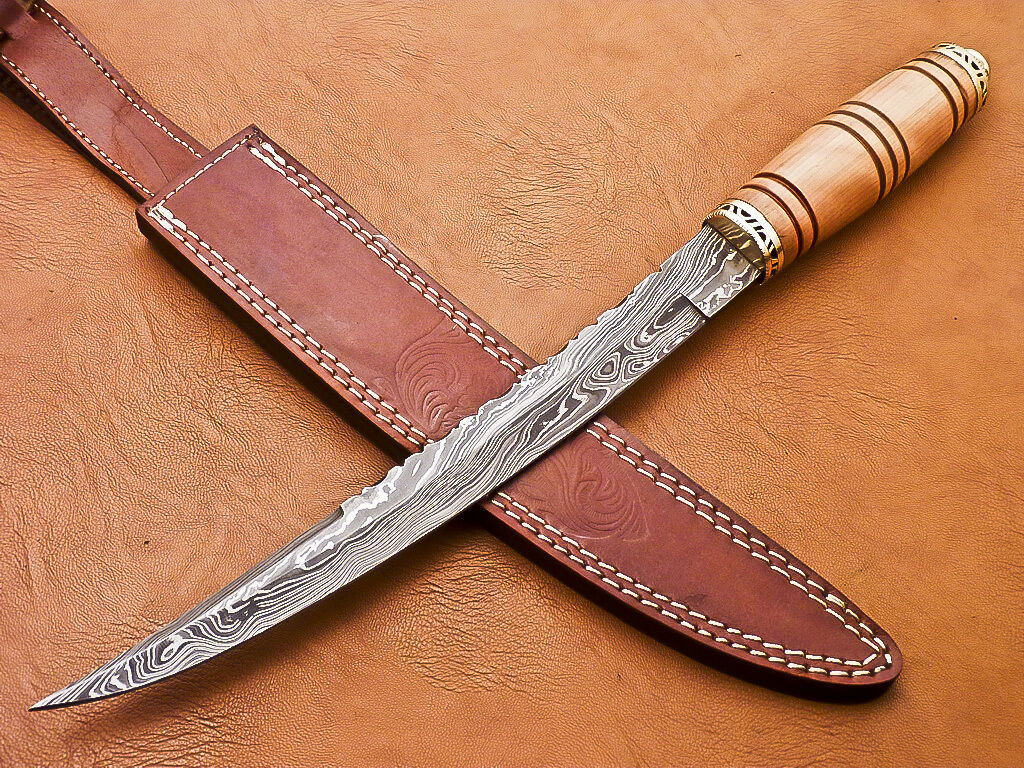knief: (21, 45, 994, 661)
